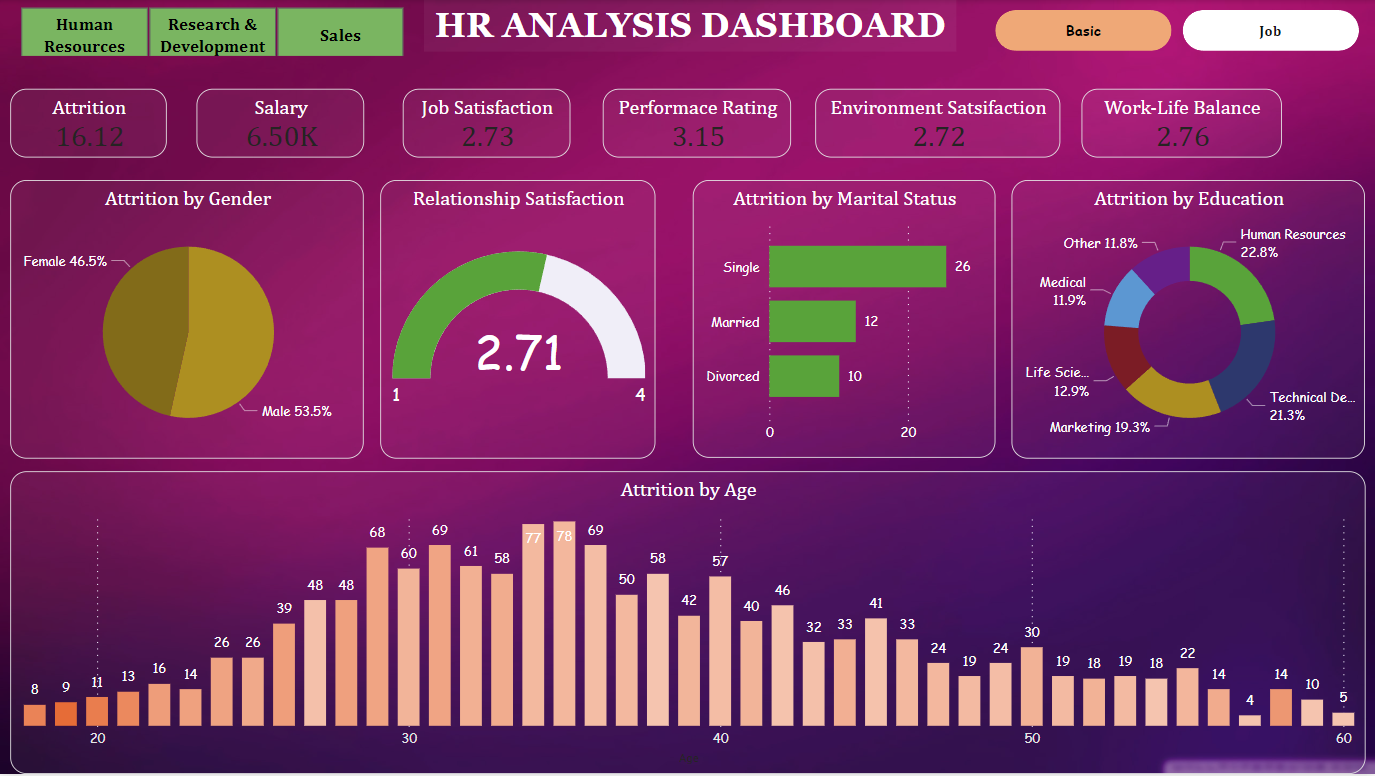

What the dashboard file says about the page in this screenshot:
{"tool":"powerbi","page":{"name":"Basic","canvas":[1280,720],"ordinal":0},"visuals":[{"type":"textbox","box":[395.3,0,495.4,47.7],"z":0},{"type":"donutChart","title":"Attrition by Education","fields":{"Category":["HR_Employee_Attrition.EducationField"],"Y":["HR_Employee_Attrition.Attrition_Rate"]},"box":[941.9,167.4,329.1,259.3],"z":1000},{"type":"card","title":"Attrition","fields":{"Values":["HR_Employee_Attrition.Attrition_Rate"]},"box":[10.5,82.6,145.3,64],"z":2000},{"type":"card","title":"Salary","fields":{"Values":["HR_Employee_Attrition.Avg_Income"]},"box":[183.7,82.6,155.8,64],"z":3000},{"type":"card","title":"Job Satisfaction","fields":{"Values":["HR_Employee_Attrition.Avg_job_satisfaction"]},"box":[375.6,82.6,155.8,64],"z":4000},{"type":"card","title":"Performace Rating","fields":{"Values":["HR_Employee_Attrition.Avg_performace"]},"box":[561.6,82.6,175.6,64],"z":5000},{"type":"card","title":"Environment Satsifaction","fields":{"Values":["HR_Employee_Attrition.Avg_Environ"]},"box":[759.3,82.6,227.9,64],"z":6000},{"type":"card","title":"Work-Life Balance","fields":{"Values":["HR_Employee_Attrition.avg_worklifebalance"]},"box":[1007,82.6,186,64],"z":7000},{"type":"columnChart","title":"Attrition by Age","fields":{"Category":["HR_Employee_Attrition.Age"],"Y":["CountNonNull(HR_Employee_Attrition.Attrition)"]},"box":[10.5,438.4,1260.5,281.4],"z":8000},{"type":"pieChart","title":"Attrition by Gender","fields":{"Y":["HR_Employee_Attrition.Attrition_Rate"],"Category":["HR_Employee_Attrition.Gender"]},"box":[10.5,167.4,329.1,259.3],"z":9000},{"type":"gauge","title":"Relationship Satisfaction","fields":{"Y":["Avg(HR_Employee_Attrition.RelationshipSatisfaction)"],"MaxValue":["Max(HR_Employee_Attrition.RelationshipSatisfaction)1"],"MinValue":["Min(HR_Employee_Attrition.RelationshipSatisfaction)2"]},"box":[354.7,167.4,255.8,259.3],"z":10000},{"type":"barChart","title":"Attrition by Marital Status ","fields":{"Category":["HR_Employee_Attrition.MaritalStatus"],"Y":["HR_Employee_Attrition.Attrition_Rate"]},"box":[645.4,167.4,281.4,258.1],"z":11000},{"type":"pageNavigator","box":[926.7,9.3,339.5,38.4],"z":12000},{"type":"slicer","fields":{"Values":["HR_Employee_Attrition.Department"]},"box":[0,0,395.3,52.3],"z":13000}]}

Visuals, with their boxes in screenshot pixels (x1, y1, x2, y2), scaled from the page's 1280x720 canvas onto the 1375x776 screenshot:
textbox: <box>425,0,957,51</box>
"Attrition by Education" donutChart: <box>1012,180,1365,460</box>
"Attrition" card: <box>11,89,167,158</box>
"Salary" card: <box>197,89,365,158</box>
"Job Satisfaction" card: <box>403,89,571,158</box>
"Performace Rating" card: <box>603,89,792,158</box>
"Environment Satsifaction" card: <box>816,89,1060,158</box>
"Work-Life Balance" card: <box>1082,89,1282,158</box>
"Attrition by Age" columnChart: <box>11,472,1365,775</box>
"Attrition by Gender" pieChart: <box>11,180,365,460</box>
"Relationship Satisfaction" gauge: <box>381,180,656,460</box>
"Attrition by Marital Status " barChart: <box>693,180,996,459</box>
pageNavigator: <box>995,10,1360,51</box>
slicer - HR_Employee_Attrition.Department: <box>0,0,425,56</box>
